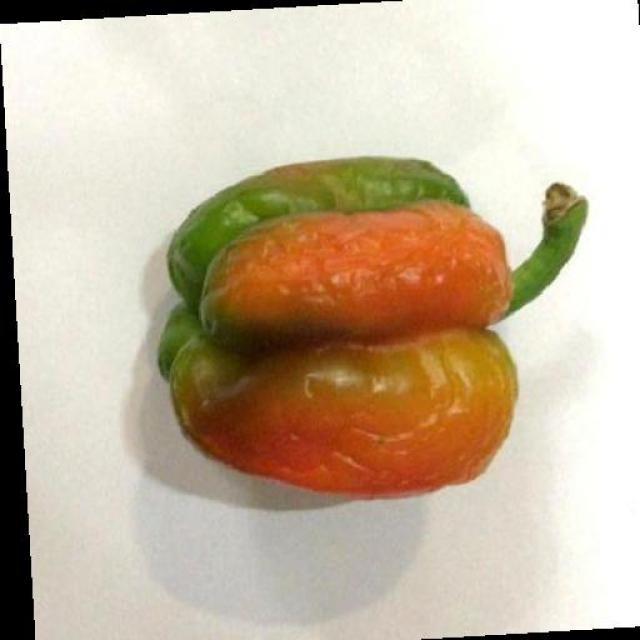Stale_Capsicum: (144, 158, 608, 507)
